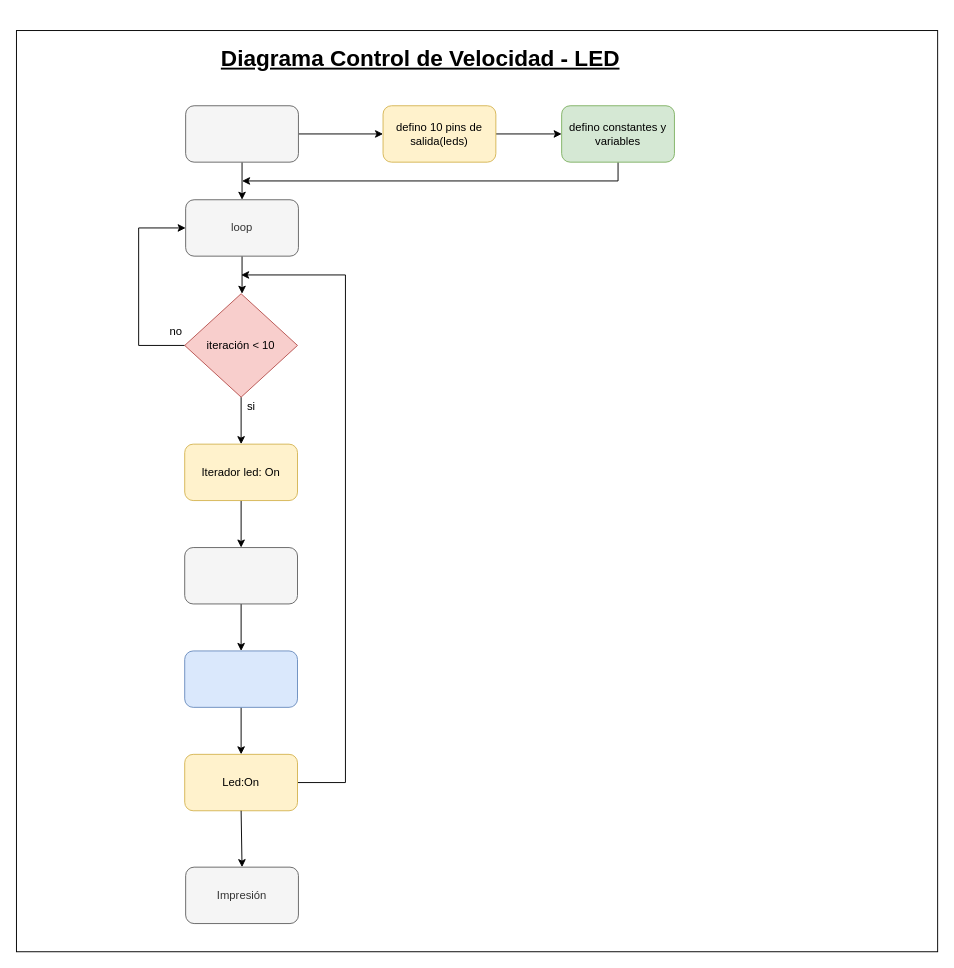
Image size: 954x968. Some labels were removed from this diagram. Each missing label, with the box of its shape:
control del tiempo que se debe esperar: (184, 650, 298, 707)
lectura de la fuente de energia: (184, 547, 298, 604)
setup: (185, 105, 298, 162)
